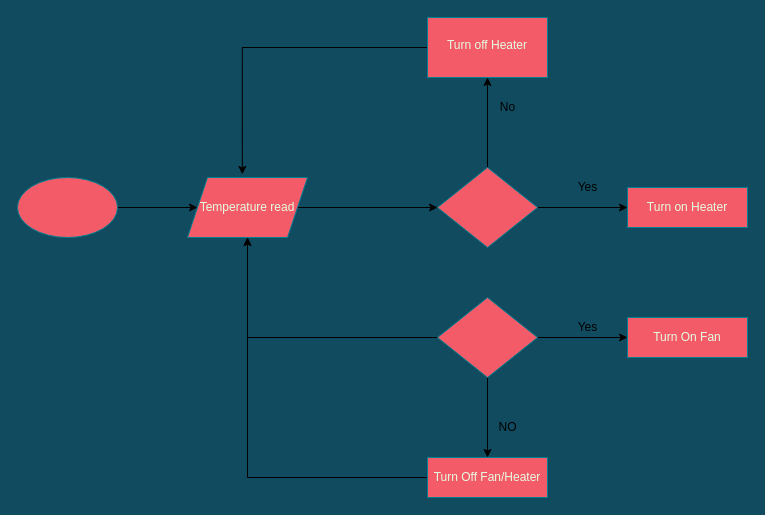
The diagram is 765 pixels wide and 515 high, and some of its shapes have lost their labels. The centre of each missing label's shape, as x and y in pixels:
If Temp < 18: point (487, 207)
If Temp = > 30: point (487, 337)
Start: point (67, 207)
